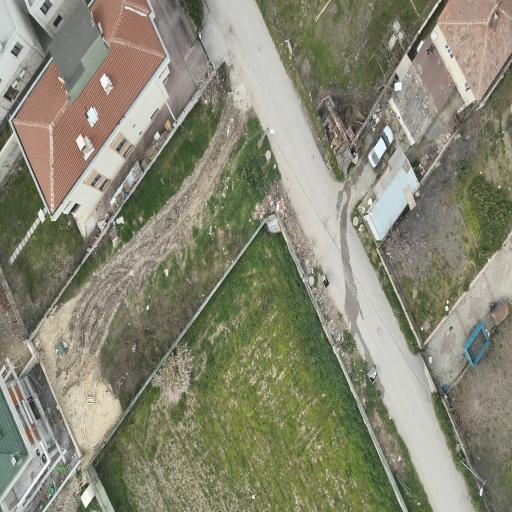car: (369, 126, 393, 168)
